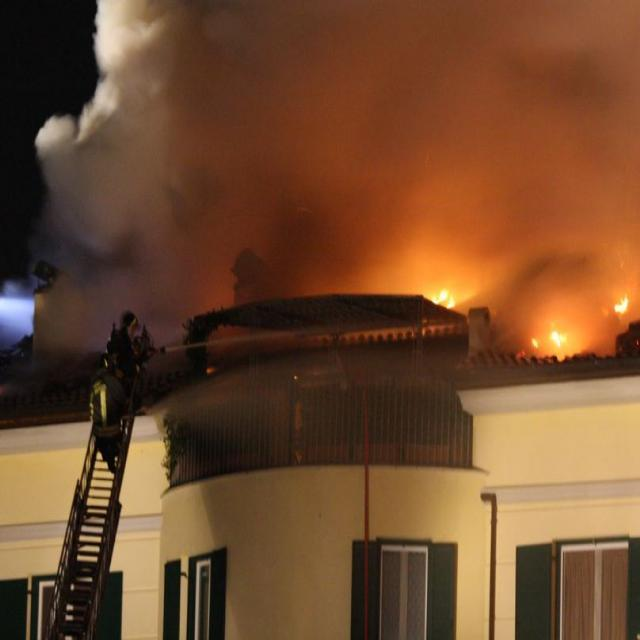Fire: (530, 324, 565, 354), (613, 286, 631, 316), (433, 287, 455, 307)
